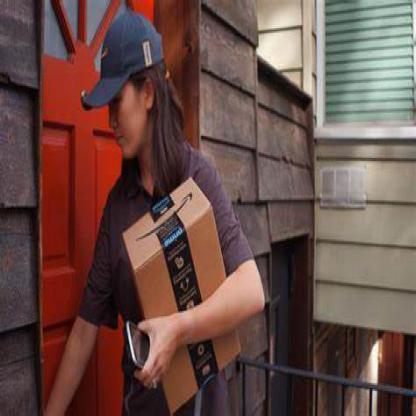package: (118, 175, 244, 415)
